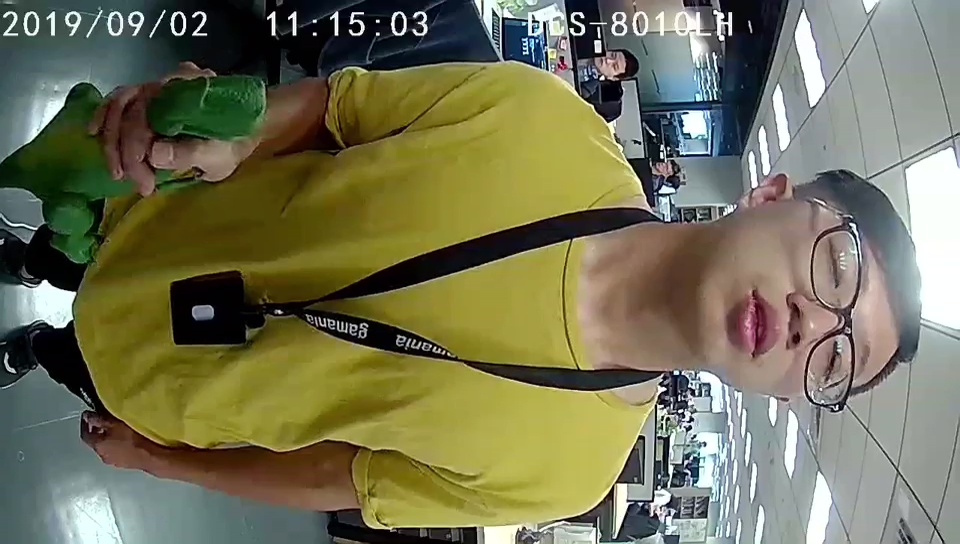rex: (43, 75, 270, 266)
